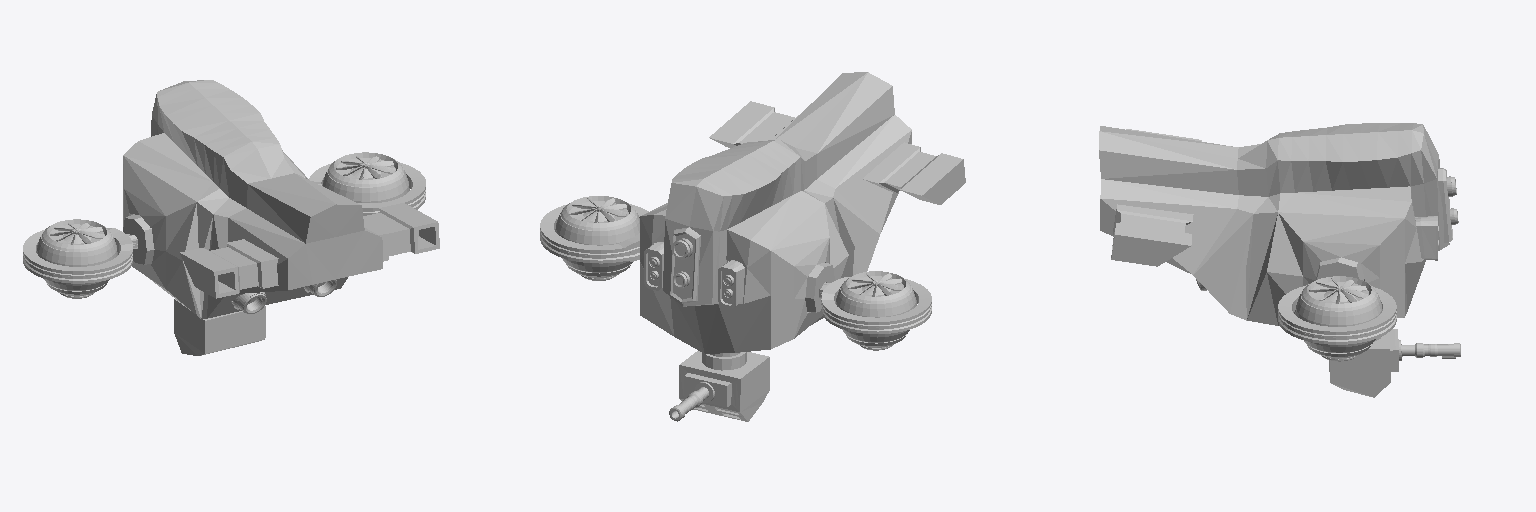
File: Torreta.obj
3 views of the same model, side by side, from view 1: azimuth 30°, elevation 25°; view 2: azimuth 150°, elevation 25°; view 3: azimuth 270°, elevation 25° (orthographic).
Visible parts, largest first — view 1: Cube, Cube.004_Cube.002, Cube.003, Sphere, Cube.005_Cube.004, Sphere.003_Sphere, Cylinder, Cylinder.001_Cylinder, Sphere.004_Sphere.001, Sphere.008_Sphere.006, Sphere.001; view 2: Cube, Cube.003, Cube.004_Cube.002, Sphere.003_Sphere, Sphere, Cylinder, Cylinder.001_Cylinder, Cube.005_Cube.004, Plane, Cube.002_Cube.001, Cylinder.009_Cylinder.008, Cube.001 (+3 smaller); view 3: Cube, Cube.005_Cube.004, Sphere.003_Sphere, Cylinder.001_Cylinder, Cube.003, Cube.001, Cylinder.009_Cylinder.008, Sphere.004_Sphere.001, Plane.
Part boxes in pixels (bbox=[...]): Cube: bbox=[123, 80, 382, 319]; Cube.004_Cube.002: bbox=[180, 239, 278, 298]; Cube.003: bbox=[174, 299, 265, 355]; Sphere: bbox=[36, 219, 117, 298]; Cube.005_Cube.004: bbox=[363, 203, 439, 261]; Sphere.003_Sphere: bbox=[322, 152, 409, 202]; Cylinder: bbox=[23, 228, 137, 283]; Cylinder.001_Cylinder: bbox=[309, 162, 425, 215]; Sphere.004_Sphere.001: bbox=[336, 156, 395, 179]; Sphere.008_Sphere.006: bbox=[231, 292, 266, 313]; Sphere.001: bbox=[50, 223, 104, 244]; Cube: bbox=[640, 72, 911, 353]; Cube.003: bbox=[679, 351, 769, 421]; Cube.004_Cube.002: bbox=[863, 142, 965, 204]; Sphere.003_Sphere: bbox=[555, 196, 639, 280]; Sphere: bbox=[836, 271, 916, 350]; Cylinder: bbox=[819, 277, 931, 333]; Cylinder.001_Cylinder: bbox=[540, 204, 648, 263]; Cube.005_Cube.004: bbox=[709, 101, 798, 147]; Plane: bbox=[670, 227, 700, 302]; Cube.002_Cube.001: bbox=[718, 260, 744, 308]; Cylinder.009_Cylinder.008: bbox=[669, 382, 714, 421]; Cube.001: bbox=[644, 242, 663, 290]; Cube: bbox=[1099, 123, 1449, 325]; Cube.005_Cube.004: bbox=[1111, 204, 1193, 266]; Sphere.003_Sphere: bbox=[1295, 276, 1382, 361]; Cylinder.001_Cylinder: bbox=[1278, 284, 1396, 344]; Cube.003: bbox=[1329, 329, 1398, 397]; Cube.001: bbox=[1415, 216, 1437, 260]; Cylinder.009_Cylinder.008: bbox=[1399, 340, 1460, 360]; Sphere.004_Sphere.001: bbox=[1309, 278, 1368, 303]; Plane: bbox=[1438, 168, 1452, 242].
Bounding box in the file's own units: 6.66 × 4.17 × 5.46.